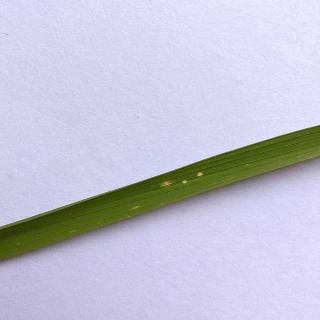Blast: (155, 173, 177, 194), (190, 166, 208, 182), (180, 177, 190, 190)
